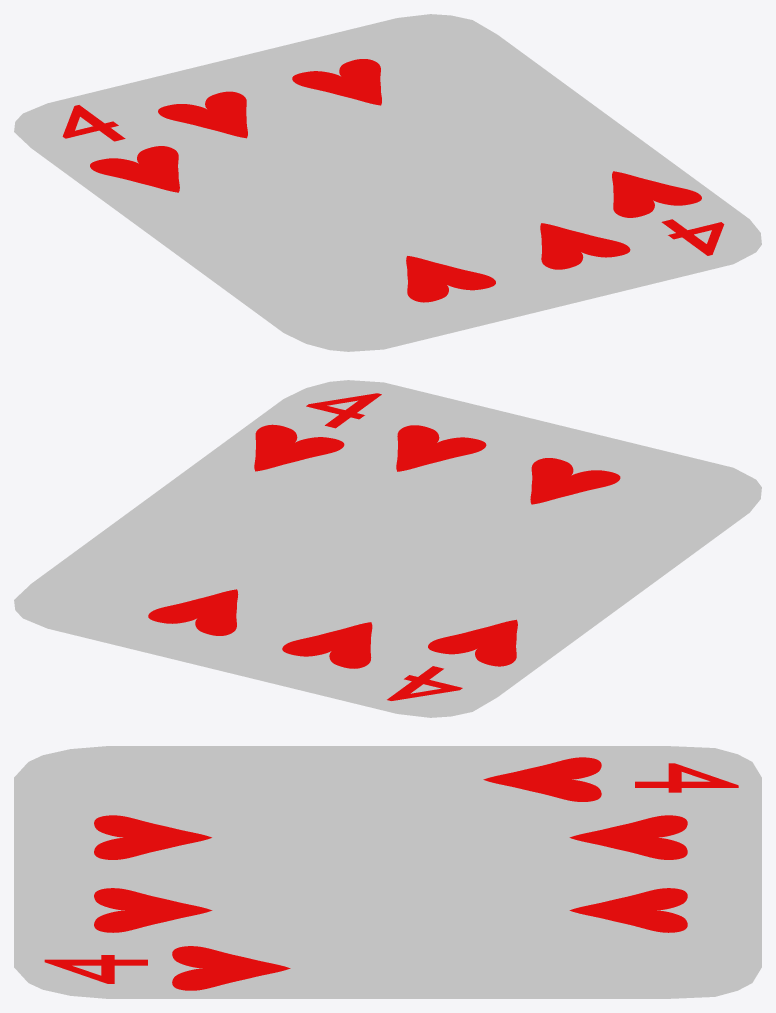
The picture shows the model from 3 angles, top to bottom: view 1: azimuth 30°, elevation 25°; view 2: azimuth 150°, elevation 25°; view 3: azimuth 270°, elevation 25°; orthographic projection. The views are drawn at different scales.
Parts seen in each view (by area): view 1: 4ofHearts, Plane.016_Red, Plane.011_Red, Plane.015_Red, Plane.013_Red, Plane.012_Red, Plane.014_Red, Font.008_Bla_Blac.002, Font.007_Bla_Blac.002; view 2: 4ofHearts, Plane.016_Red, Plane.015_Red, Plane.012_Red, Plane.011_Red, Plane.013_Red, Plane.014_Red, Font.007_Bla_Blac.002, Font.008_Bla_Blac.002; view 3: 4ofHearts, Plane.016_Red, Plane.012_Red, Plane.015_Red, Plane.011_Red, Plane.013_Red, Plane.014_Red, Font.008_Bla_Blac.002, Font.007_Bla_Blac.002.
Part boxes in pixels (<box>): 4ofHearts: <box>14,14,761,351</box>; Plane.016_Red: <box>540,223,630,269</box>; Plane.011_Red: <box>612,171,701,217</box>; Plane.015_Red: <box>406,256,495,302</box>; Plane.013_Red: <box>158,91,247,138</box>; Plane.012_Red: <box>90,146,179,192</box>; Plane.014_Red: <box>292,59,381,105</box>; Font.008_Bla_Blac.002: <box>661,219,724,255</box>; Font.007_Bla_Blac.002: <box>62,105,125,141</box>; 4ofHearts: <box>14,380,761,717</box>; Plane.016_Red: <box>396,425,486,471</box>; Plane.015_Red: <box>530,458,620,504</box>; Plane.012_Red: <box>428,619,517,666</box>; Plane.011_Red: <box>254,424,344,471</box>; Plane.013_Red: <box>282,622,372,668</box>; Plane.014_Red: <box>148,589,238,635</box>; Font.007_Bla_Blac.002: <box>387,666,462,700</box>; Font.008_Bla_Blac.002: <box>306,393,381,428</box>; 4ofHearts: <box>14,746,761,998</box>; Plane.016_Red: <box>94,888,212,932</box>; Plane.012_Red: <box>483,757,601,801</box>; Plane.015_Red: <box>94,815,211,859</box>; Plane.011_Red: <box>172,946,290,990</box>; Plane.013_Red: <box>569,815,687,859</box>; Plane.014_Red: <box>569,888,687,932</box>; Font.008_Bla_Blac.002: <box>44,955,147,983</box>; Font.007_Bla_Blac.002: <box>635,763,738,792</box>.
Size of the model in its own units: 1.6 by 0.00355 by 2.
